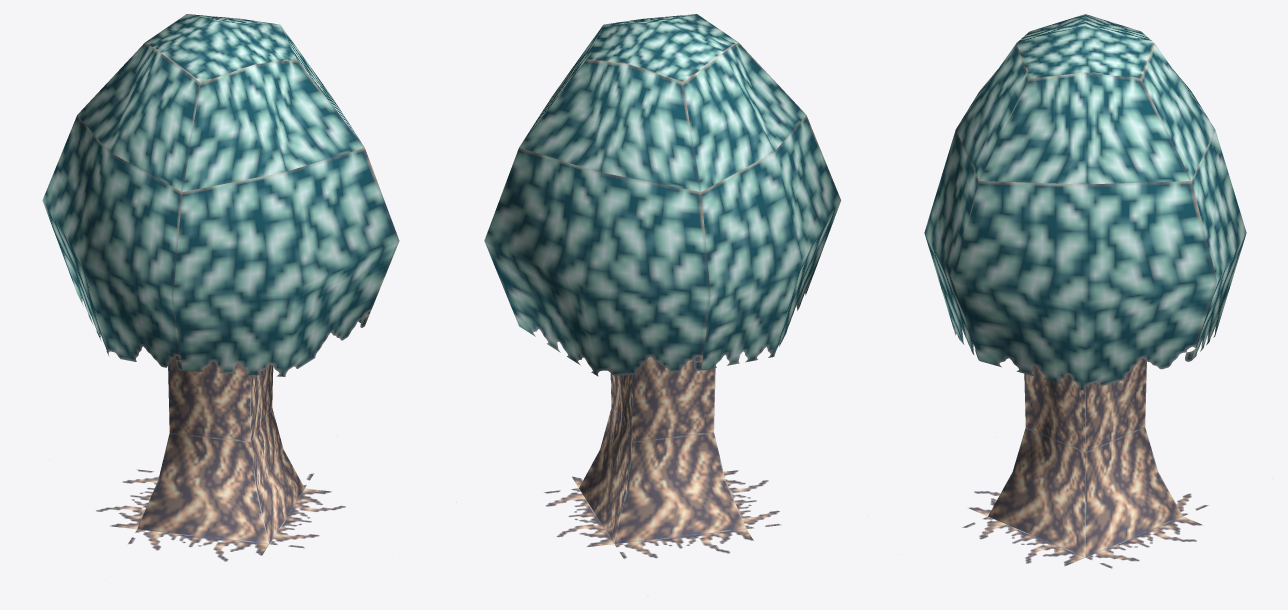
The model's file is grasslands_Tree_snowy_lowPoly.fbx.
3 renders of one model, left to right at view 1: azimuth 30°, elevation 25°; view 2: azimuth 150°, elevation 25°; view 3: azimuth 270°, elevation 25°, orthographic.
Visible parts, largest first — view 1: grasslands_Tree_snowy_lowPoly; view 2: grasslands_Tree_snowy_lowPoly; view 3: grasslands_Tree_snowy_lowPoly.
Boxes of the visible parts, box(x1,y1,x2,y2) form: grasslands_Tree_snowy_lowPoly: box(42, 14, 399, 580); grasslands_Tree_snowy_lowPoly: box(456, 14, 868, 595); grasslands_Tree_snowy_lowPoly: box(898, 14, 1272, 595).
Bounding box in the file's own units: 3.82 × 5.49 × 3.82.
